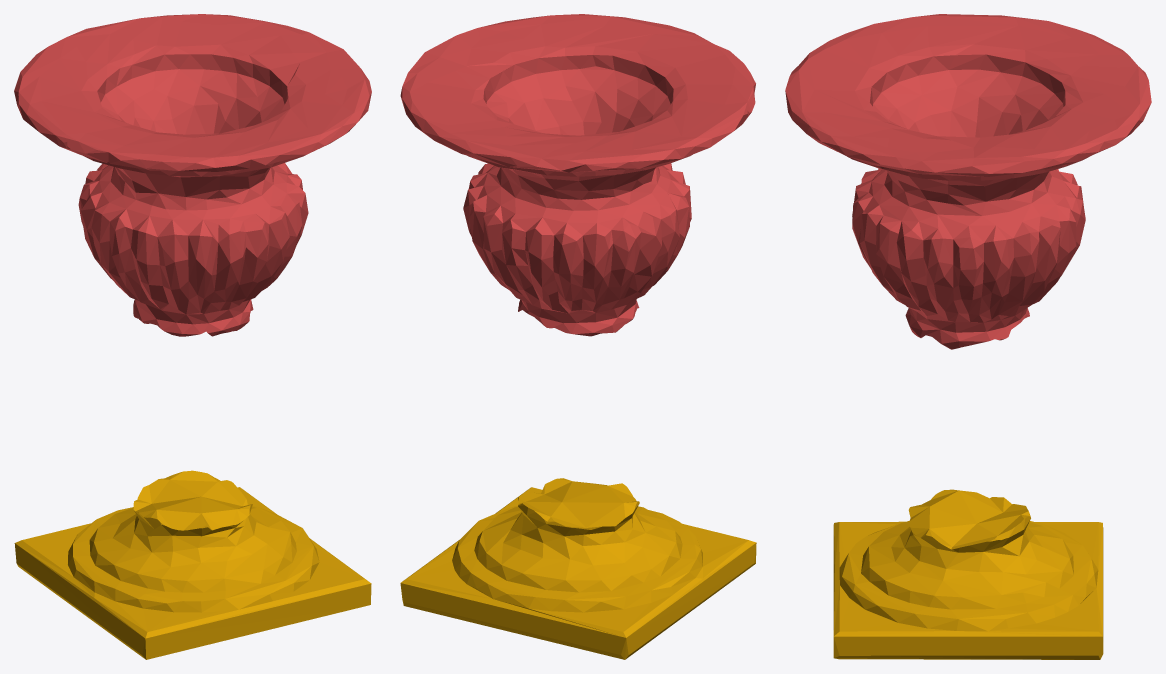
Rendered from mode_1_2pcs_transformed.glb.
The picture shows the model from 3 angles, left to right: view 1: azimuth 30°, elevation 25°; view 2: azimuth 150°, elevation 25°; view 3: azimuth 270°, elevation 25°; orthographic projection. The views are drawn at different scales.
Visible parts, largest first — view 1: piece_1.obj, piece_0.obj; view 2: piece_1.obj, piece_0.obj; view 3: piece_1.obj, piece_0.obj.
Part boxes in pixels (x1,y1,x2,y2): piece_1.obj: (14,14,371,336); piece_0.obj: (14,470,371,659); piece_1.obj: (400,14,755,336); piece_0.obj: (400,478,756,659); piece_1.obj: (785,14,1151,349); piece_0.obj: (833,489,1103,659).
Size of the model in its own units: 1 by 1.55 by 0.997.
